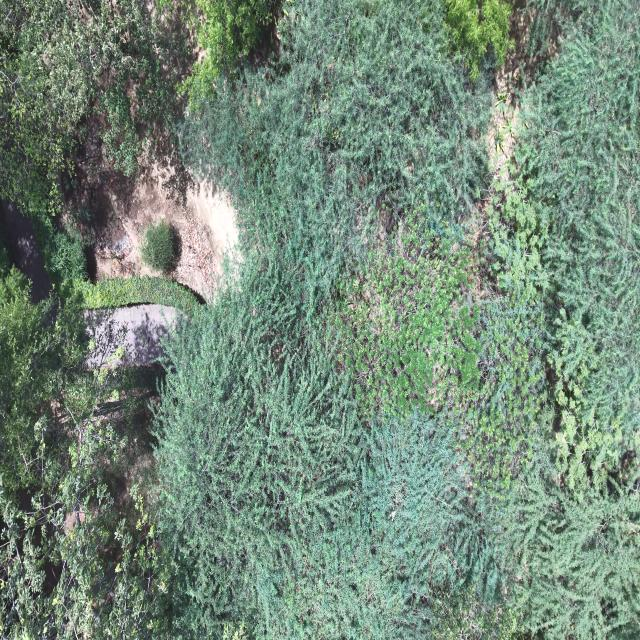DRY_AREA: (71, 114, 236, 298), (79, 155, 236, 298), (78, 162, 236, 298), (83, 162, 236, 298), (487, 3, 558, 176), (84, 304, 175, 368), (84, 305, 175, 368), (1, 201, 50, 303)
VEGETATION_TREE: (0, 0, 639, 639), (156, 2, 639, 637), (157, 3, 492, 637), (156, 260, 496, 637), (0, 3, 173, 637), (180, 0, 490, 309), (491, 3, 639, 637), (156, 254, 356, 635), (510, 4, 639, 489), (0, 271, 168, 638), (0, 0, 188, 285), (0, 0, 180, 207), (334, 211, 479, 414), (462, 167, 547, 484), (501, 463, 639, 639), (0, 268, 83, 497), (185, 0, 276, 95), (445, 0, 511, 80), (73, 276, 199, 314), (30, 212, 86, 287), (140, 220, 176, 272)
